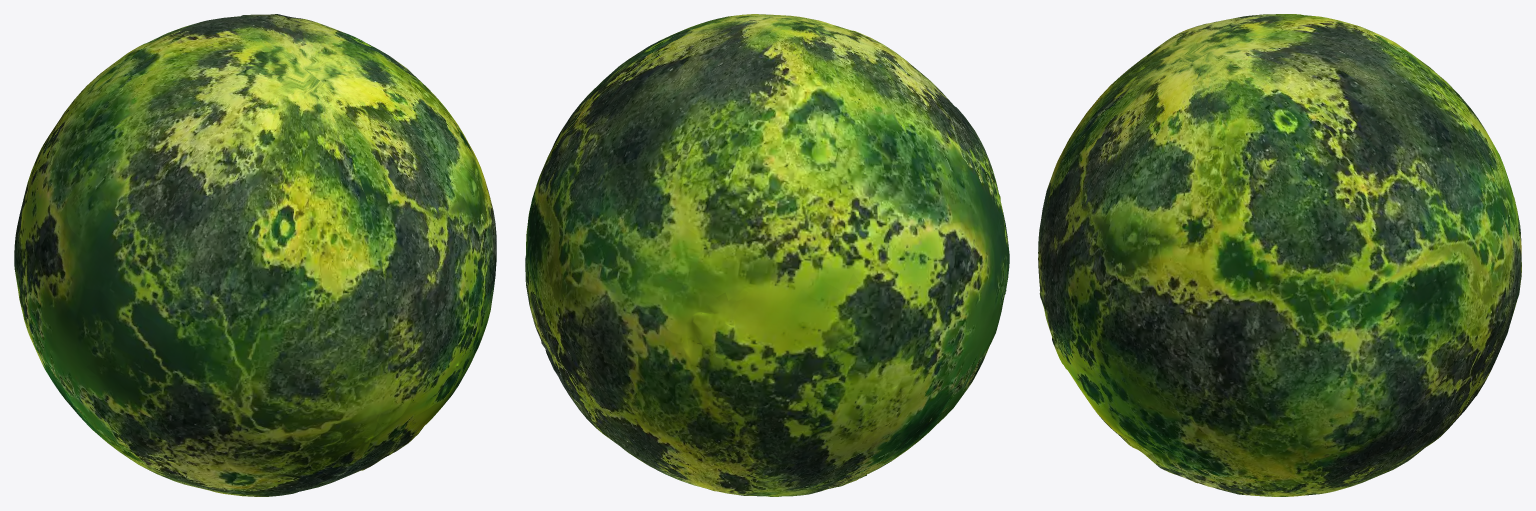
Rendered from planet_7.glb.
3 renders of one model, left to right at view 1: azimuth 30°, elevation 25°; view 2: azimuth 150°, elevation 25°; view 3: azimuth 270°, elevation 25°, orthographic.
Visible parts, largest first — view 1: Mesh_0.001; view 2: Mesh_0.001; view 3: Mesh_0.001.
Part boxes in pixels (x1=…): Mesh_0.001: x1=14, y1=14, x2=496, y2=496; Mesh_0.001: x1=525, y1=14, x2=1009, y2=496; Mesh_0.001: x1=1038, y1=14, x2=1521, y2=496.
Size of the model in its own units: 1.9 by 1.9 by 1.9.
1 material, 1 textured.
